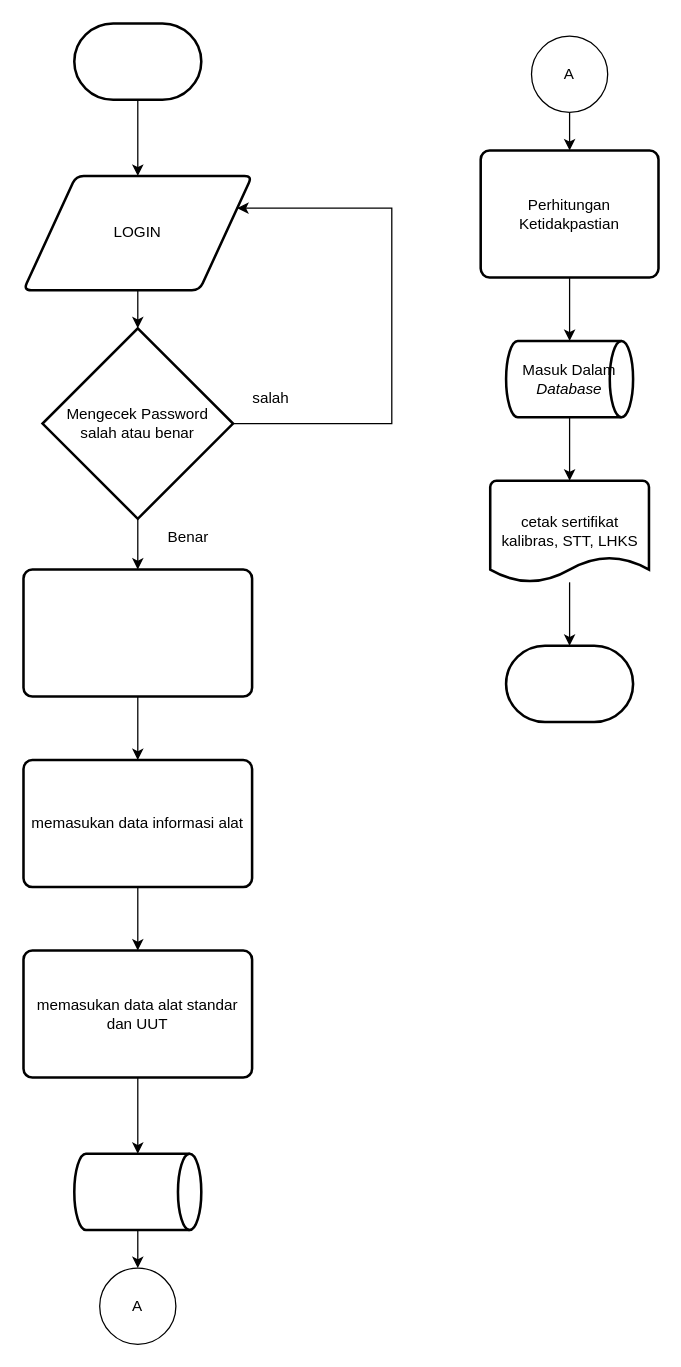
Some shapes in this 681 by 1367 pixel diagram are drawn without their labels. Each missing label, with the centre of its shape:
database: (x=137, y=1191)
Masuk dalam tampilan menu: (x=137, y=632)
selesai: (x=569, y=683)
START: (x=137, y=61)
